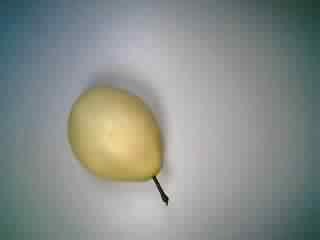pear: (62, 78, 178, 212)
